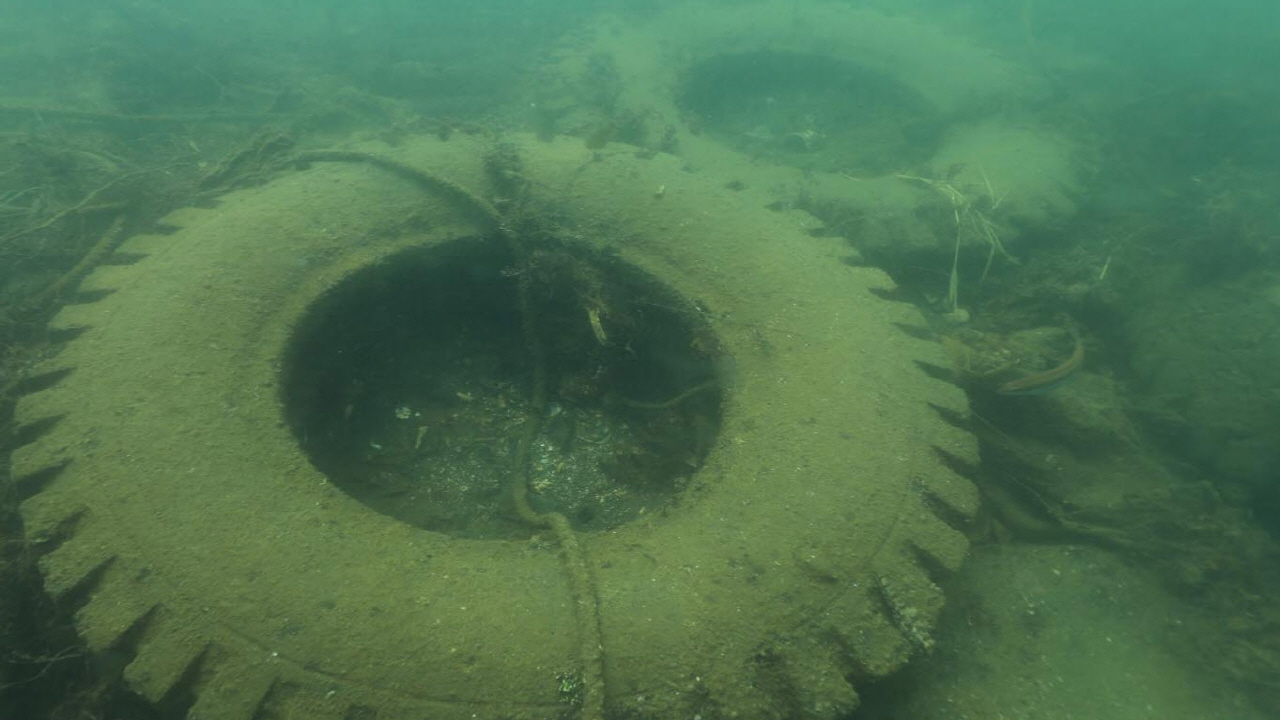rope: (265, 133, 615, 720)
tire: (12, 121, 977, 720), (534, 0, 1099, 274)
